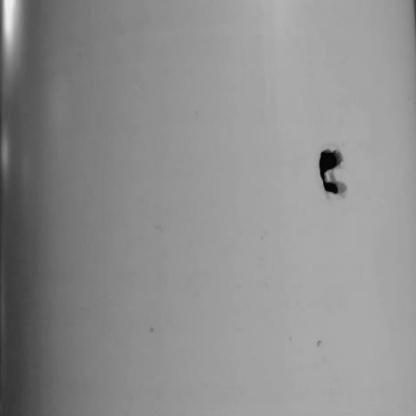kongdong: (314, 138, 352, 203)
